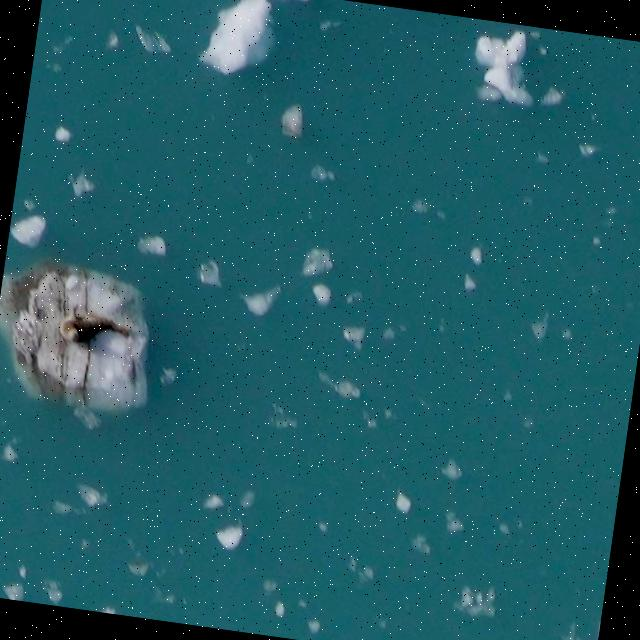seal: (57, 308, 131, 355)
